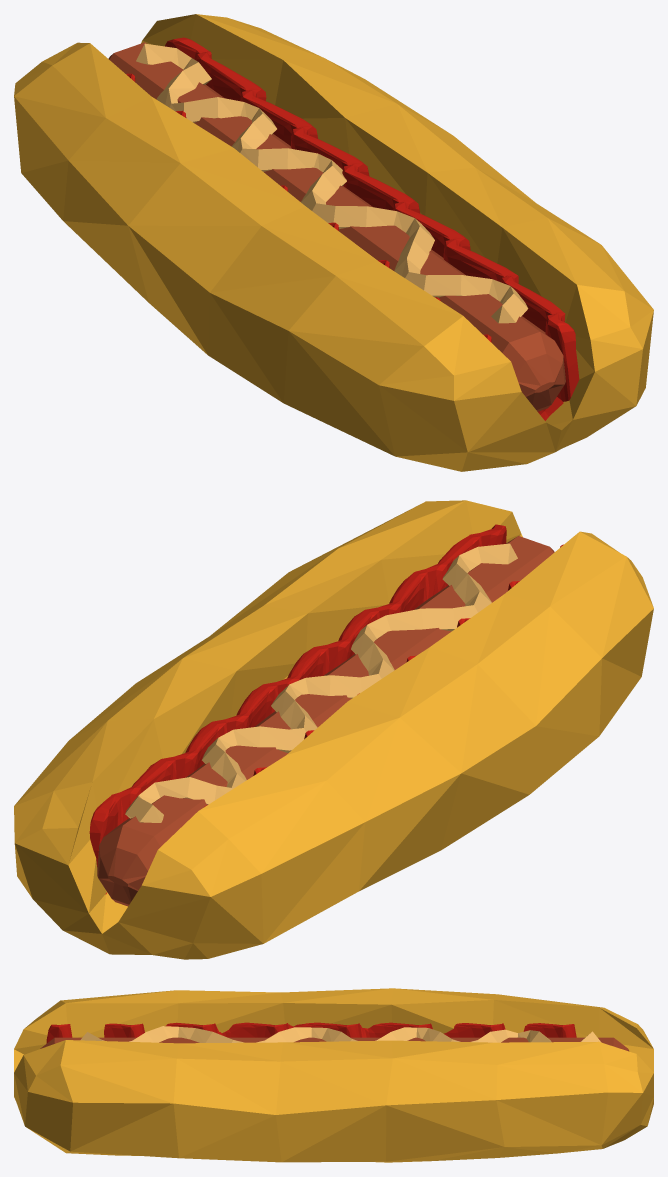
File: Lowpoly_Hotdog.fbx
3 renders of one model, top to bottom at view 1: azimuth 30°, elevation 25°; view 2: azimuth 150°, elevation 25°; view 3: azimuth 270°, elevation 25°, orthographic. The views are drawn at different scales.
Parts seen in each view (by area): view 1: Bread, Sausage, Mustard, Ketchu; view 2: Bread, Sausage, Mustard, Ketchu; view 3: Bread, Ketchu, Mustard, Sausage.
Boxes of the visible parts, box(x1,y1,x2,y2) form: Bread: box(14, 14, 653, 471); Sausage: box(108, 42, 565, 411); Mustard: box(136, 43, 528, 323); Ketchu: box(126, 37, 579, 420); Bread: box(14, 500, 653, 959); Sausage: box(97, 536, 554, 906); Mustard: box(125, 543, 517, 822); Ketchu: box(89, 524, 563, 894); Bread: box(14, 988, 653, 1162); Ketchu: box(46, 1022, 576, 1043); Mustard: box(80, 1026, 601, 1042); Sausage: box(40, 1037, 629, 1051).
Size of what is drawn, in the model's own units: 821 by 413 by 1943.
